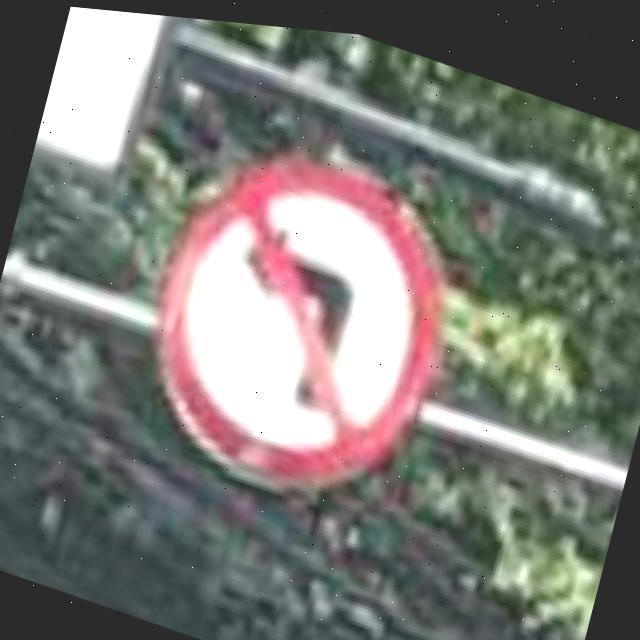Dilarang Belok Kiri: (136, 120, 465, 514)
